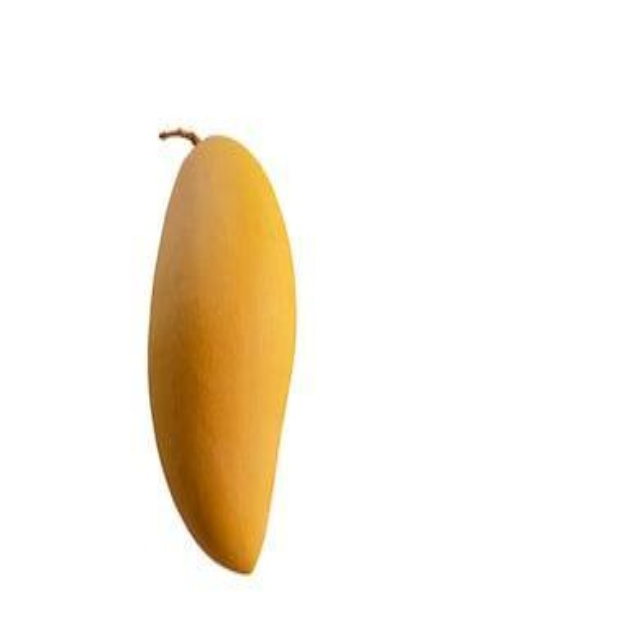mango: (148, 124, 306, 583)
